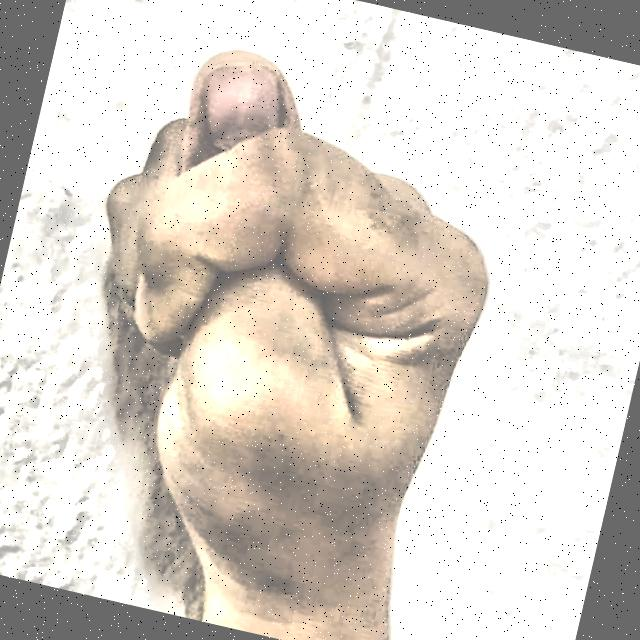Ta: (0, 0, 563, 640)
